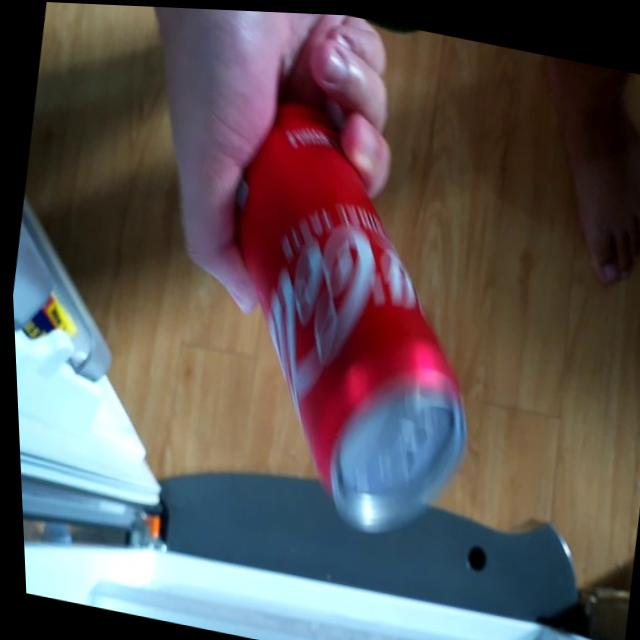coke: (172, 68, 522, 549)
